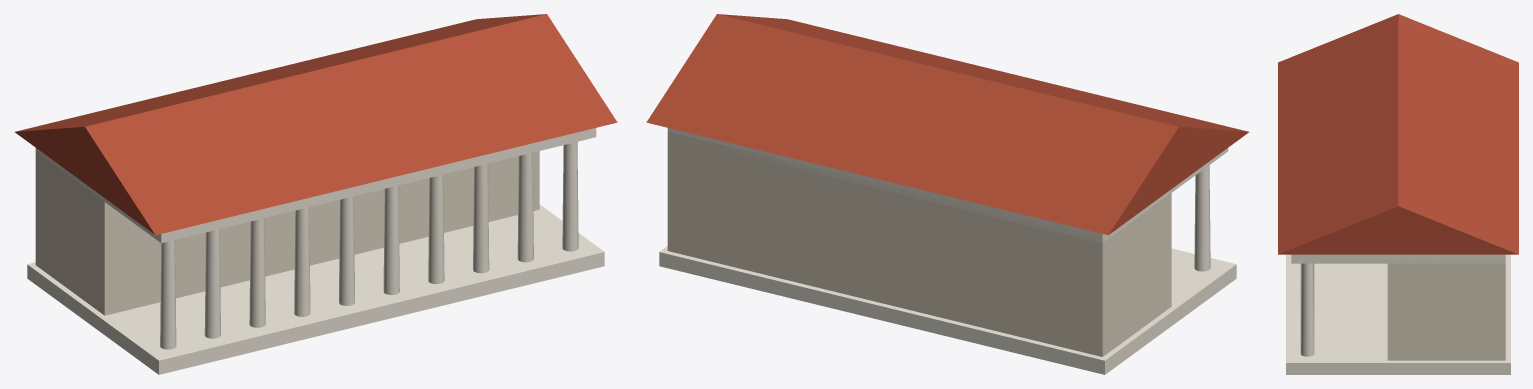
Rendered from barracks.glb.
3 views of the same model, side by side, from view 1: azimuth 30°, elevation 25°; view 2: azimuth 150°, elevation 25°; view 3: azimuth 270°, elevation 25° (orthographic). The views are drawn at different scales.
Parts seen in each view (by area): view 1: Barracks; view 2: Barracks; view 3: Barracks.
Part boxes in pixels (x1,y1,x2,y2): Barracks: (15, 14, 617, 374); Barracks: (646, 14, 1248, 374); Barracks: (1278, 14, 1518, 374).
Size of the model in its own units: 17 by 7.1 by 9.
